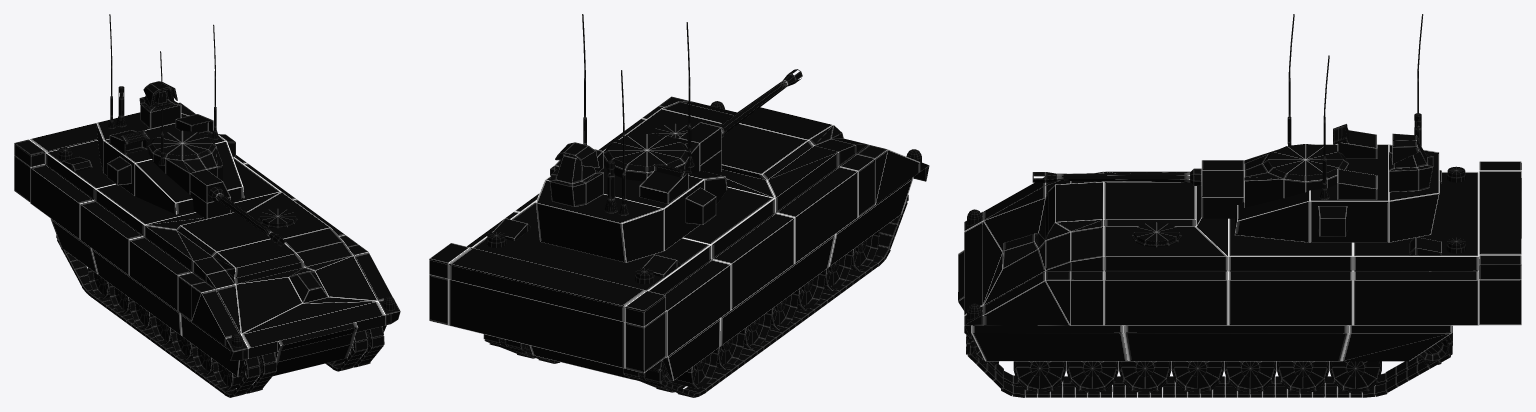
The model's file is tank.glb.
3 views of the same model, side by side, from view 1: azimuth 30°, elevation 25°; view 2: azimuth 150°, elevation 25°; view 3: azimuth 270°, elevation 25° (orthographic). The views are drawn at different scales.
Parts seen in each view (by area): view 1: vehicleAjaxTank; view 2: vehicleAjaxTank; view 3: vehicleAjaxTank.
Boxes of the visible parts, x1,y1,x2,y2 form: vehicleAjaxTank: [14, 14, 400, 397]; vehicleAjaxTank: [429, 14, 929, 397]; vehicleAjaxTank: [958, 14, 1521, 397].
Bounding box in the file's own units: 20.85 × 30.41 × 47.76.
Materials: 1 (1 with a texture image).
